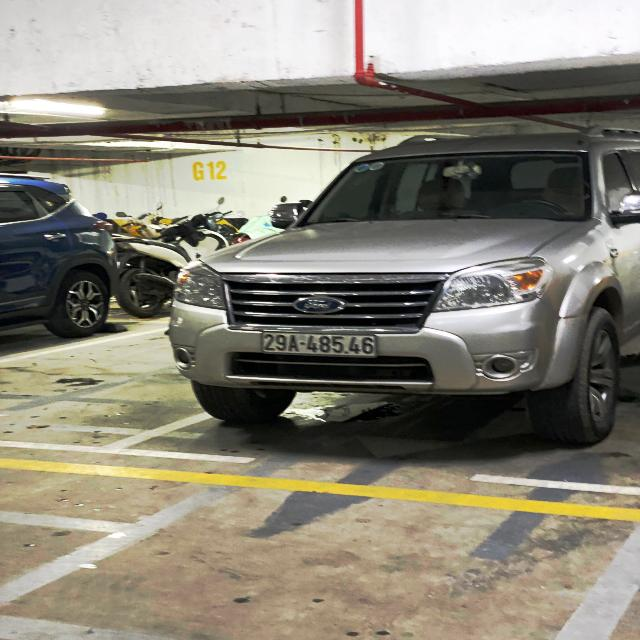license_plate: (258, 329, 381, 360)
